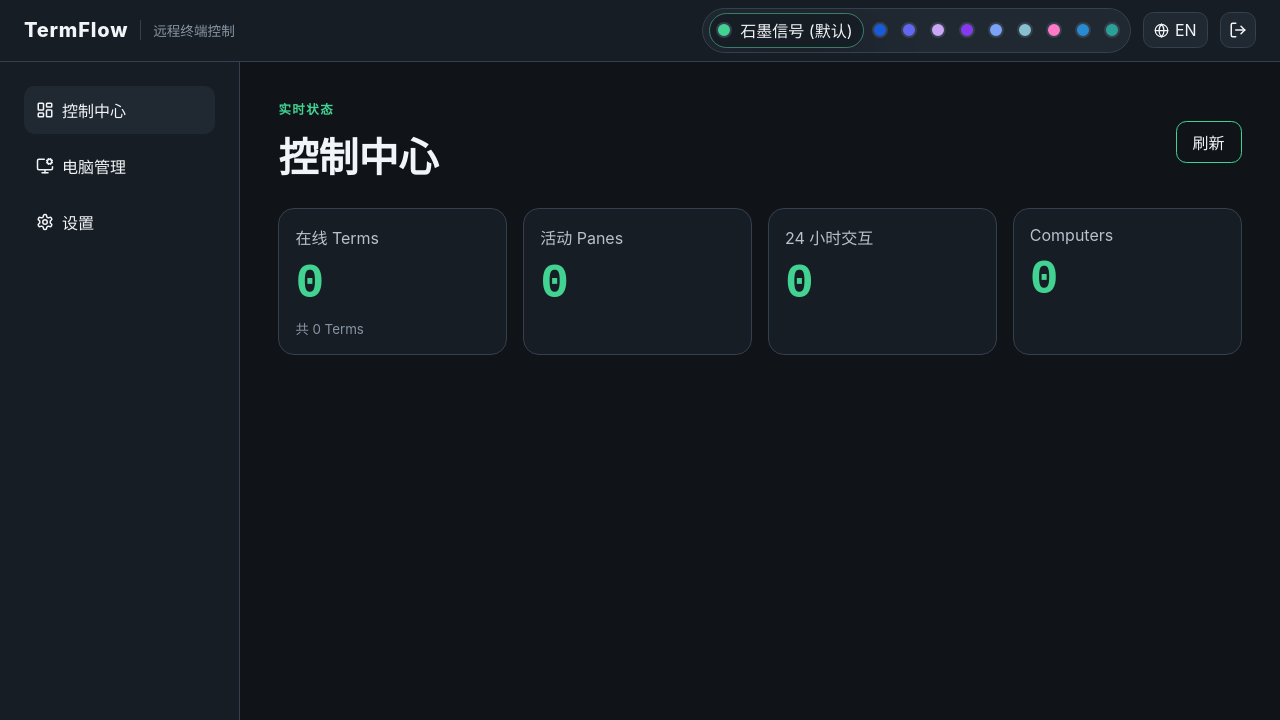
Test: shared application routes › toggles UI language between Chinese and English via header locale switcher
The image size is (1280, 720).
Expected: the link to "/" reads "控制中心", 24,86 -> 215,134
Expected: the link to "/computers" reads "电脑管理", 36,157 -> 126,177
What coordinates should you click on to do the following:
click the button "EN"
I would click on:
 (1176, 30)
Its box is 1143,12 -> 1208,48.
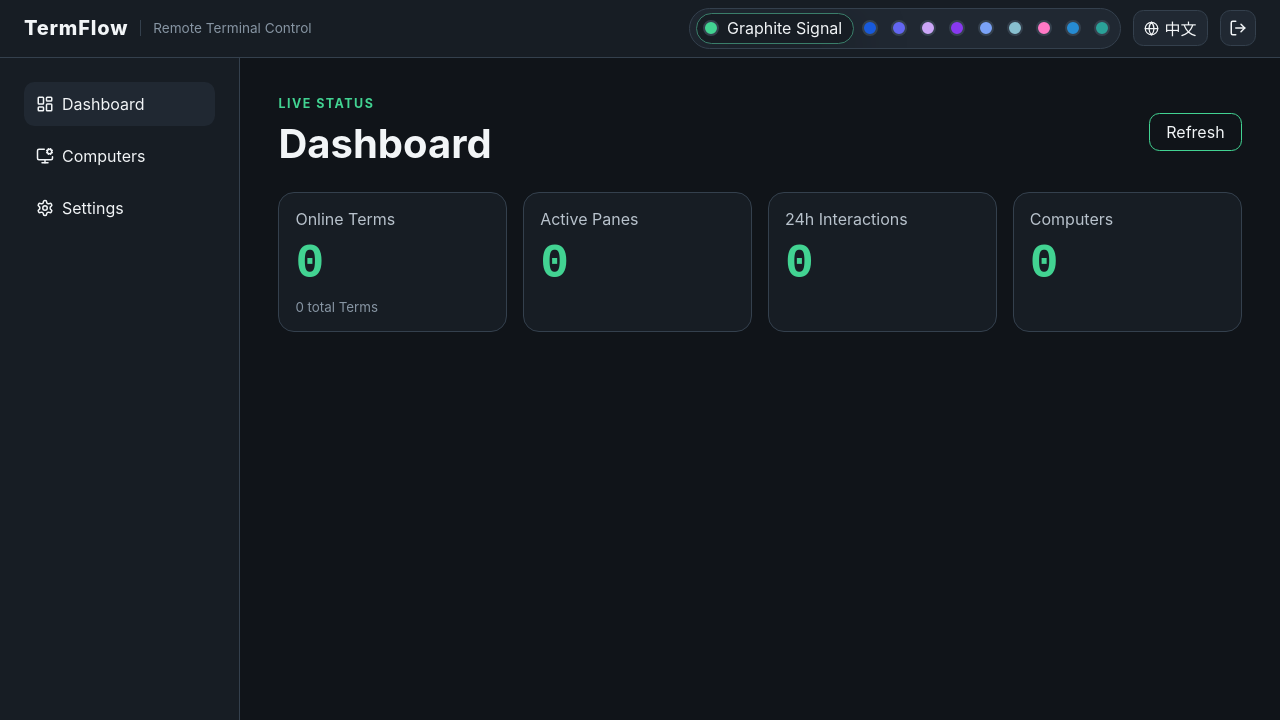
Result: the button "中文" is shown
Result: the link to "/" reads "Dashboard" at 24,82 -> 215,126
Result: the link to "/computers" is shown at 36,146 -> 145,166
What coordinates should you click on to do the following:
click the button "中文"
I would click on:
 (1170, 28)
Its box is 1133,10 -> 1208,46.
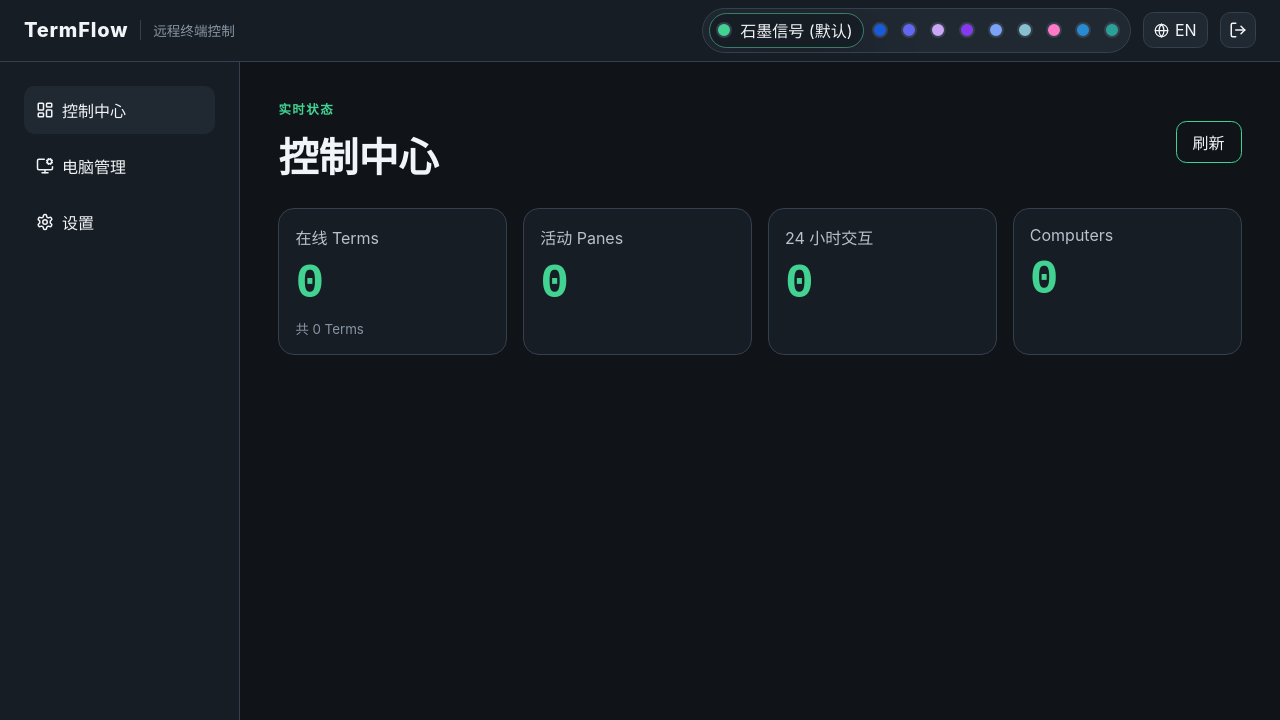
Result: the button "EN" is shown at 1143,12 -> 1208,48
Result: the link to "/" reads "控制中心" at 24,86 -> 215,134
Result: the heading "控制中心" is shown at 278,126 -> 438,184
